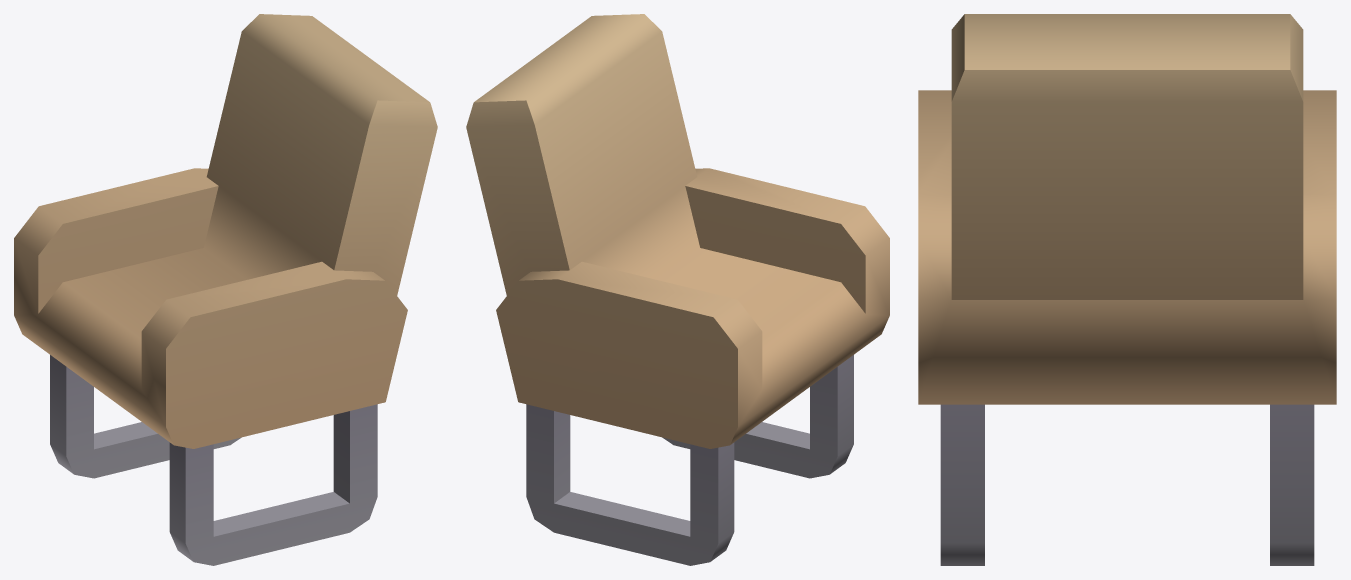
Rendered from chair-comfy-legs-metal.glb.
3 views of the same model, side by side, from view 1: azimuth 30°, elevation 25°; view 2: azimuth 150°, elevation 25°; view 3: azimuth 270°, elevation 25° (orthographic). The views are drawn at different scales.
Visible parts, largest first — view 1: chair-comfy-legs-metal; view 2: chair-comfy-legs-metal; view 3: chair-comfy-legs-metal.
Part boxes in pixels (x1,y1,x2,y2): chair-comfy-legs-metal: [14, 14, 437, 565]; chair-comfy-legs-metal: [466, 14, 889, 565]; chair-comfy-legs-metal: [918, 14, 1336, 565].
Size of the model in its own units: 0.5094 by 0.7146 by 0.4711.
